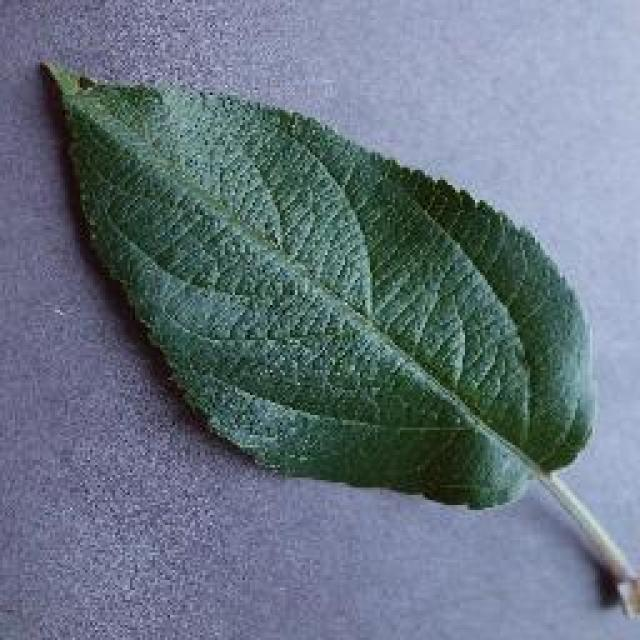Apple___healthy: (42, 42, 632, 632)
